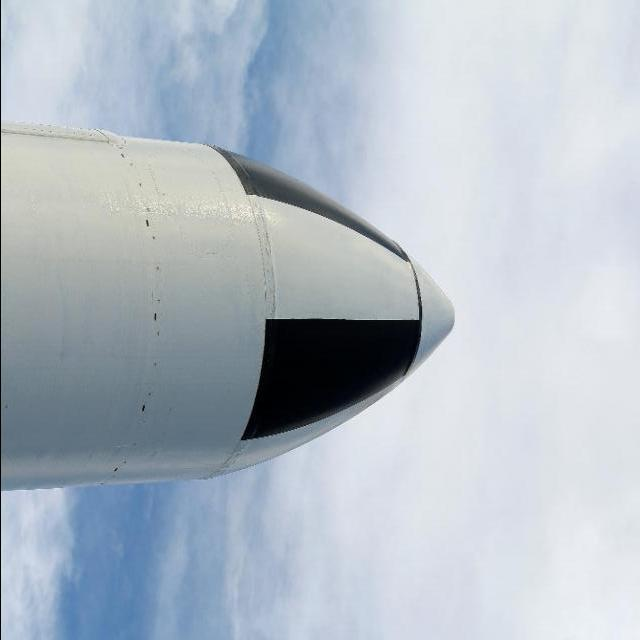missile: (0, 127, 455, 496)
